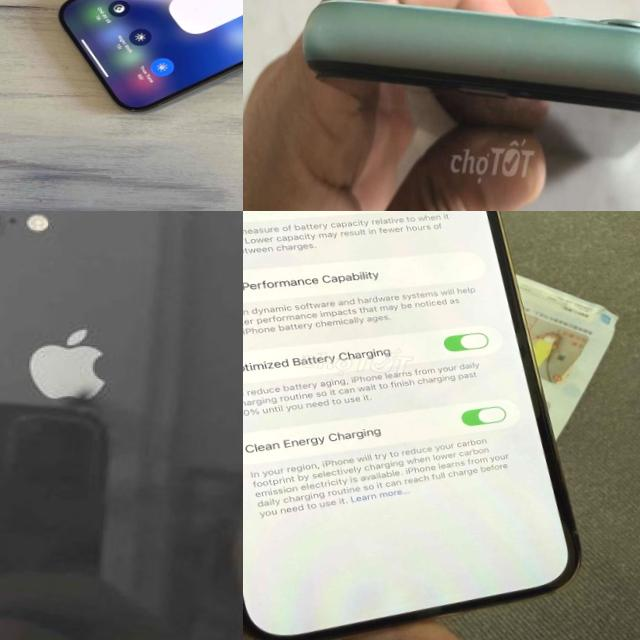scratch: (56, 382, 102, 408)
